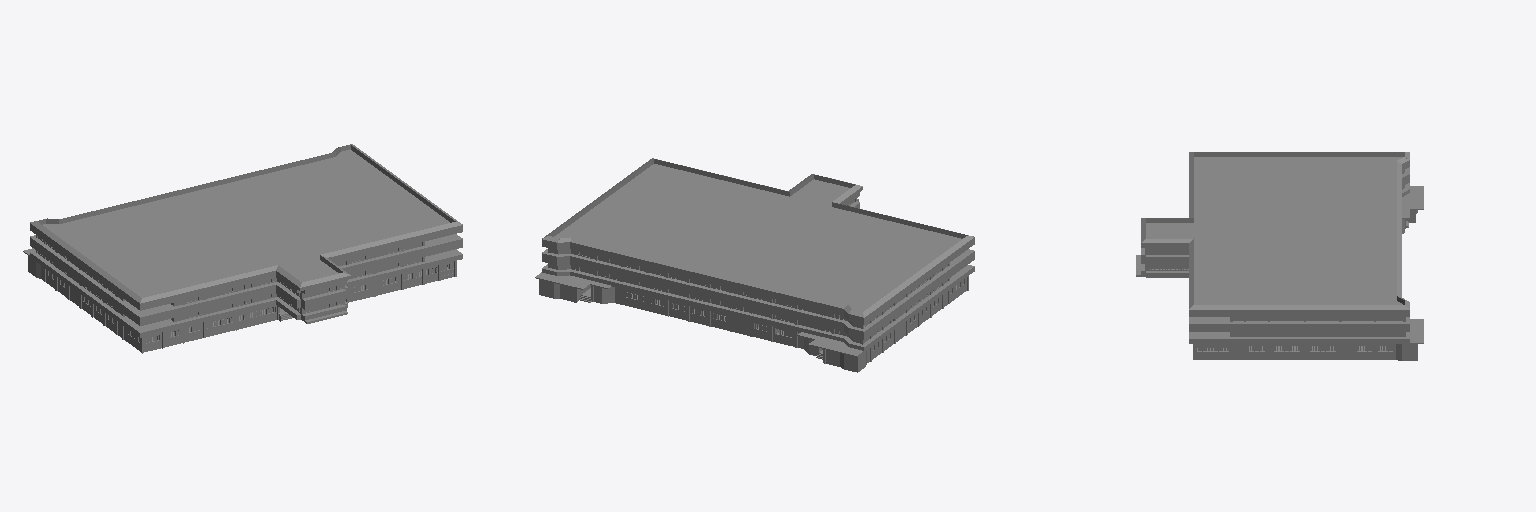
Rendered from csm.obj.
3 views of the same model, side by side, from view 1: azimuth 30°, elevation 25°; view 2: azimuth 150°, elevation 25°; view 3: azimuth 270°, elevation 25° (orthographic).
Visible parts, largest first — view 1: Layer:roo0_26, Layer:2nd _3, Layer:flo0_1, Layer:flo1_2, Layer:win0_10, Layer:2&30_13, Layer:foun_6; view 2: Layer:roo0_26, Layer:2nd _3, Layer:flo0_1, Layer:flo1_2, Layer:foun_6, Layer:2&30_13, Layer:3rd _20; view 3: Layer:roo0_26, Layer:2nd _3, Layer:flo0_1, Layer:flo1_2, Layer:2&30_13.
Boxes of the visible parts, x1=… form: Layer:roo0_26: x1=23, y1=144, x2=462, y2=310; Layer:2nd _3: x1=30, y1=234, x2=462, y2=337; Layer:flo0_1: x1=28, y1=256, x2=453, y2=348; Layer:flo1_2: x1=28, y1=268, x2=453, y2=351; Layer:win0_10: x1=47, y1=263, x2=453, y2=342; Layer:2&30_13: x1=39, y1=237, x2=421, y2=317; Layer:foun_6: x1=44, y1=261, x2=456, y2=353; Layer:roo0_26: x1=535, y1=158, x2=974, y2=356; Layer:2nd _3: x1=542, y1=199, x2=974, y2=351; Layer:flo0_1: x1=539, y1=277, x2=966, y2=368; Layer:flo1_2: x1=539, y1=285, x2=966, y2=372; Layer:foun_6: x1=574, y1=276, x2=968, y2=363; Layer:2&30_13: x1=575, y1=200, x2=939, y2=341; Layer:3rd _20: x1=550, y1=200, x2=947, y2=327; Layer:roo0_26: x1=1141, y1=152, x2=1423, y2=343; Layer:2nd _3: x1=1141, y1=167, x2=1409, y2=343; Layer:flo0_1: x1=1195, y1=210, x2=1417, y2=356; Layer:flo1_2: x1=1195, y1=210, x2=1417, y2=360; Layer:2&30_13: x1=1150, y1=251, x2=1400, y2=335.
Size of the model in its own units: 70.1 by 11.42 by 54.12.